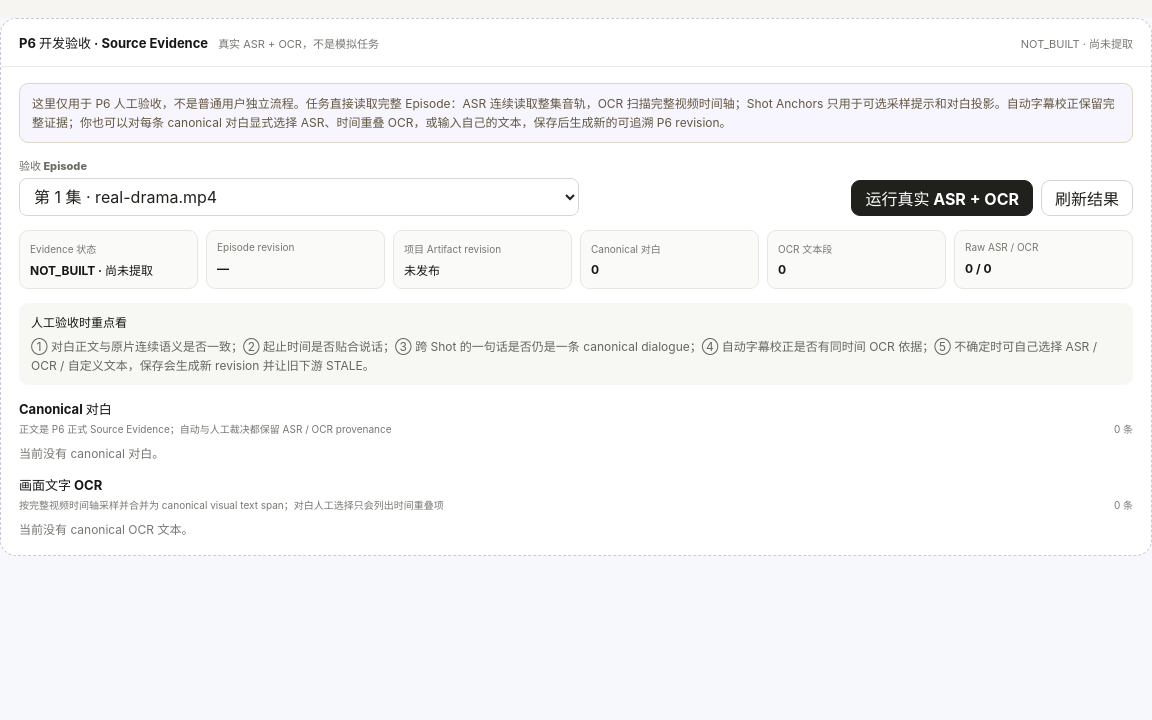
Scenario: P6AcceptancePanel › starts a real source-evidence command for the selected full Episode
This screenshot has width=1152, height=720.
Step 1. Click the button "运行真实 ASR + OCR" → (942, 198), box [851, 180, 1033, 216]
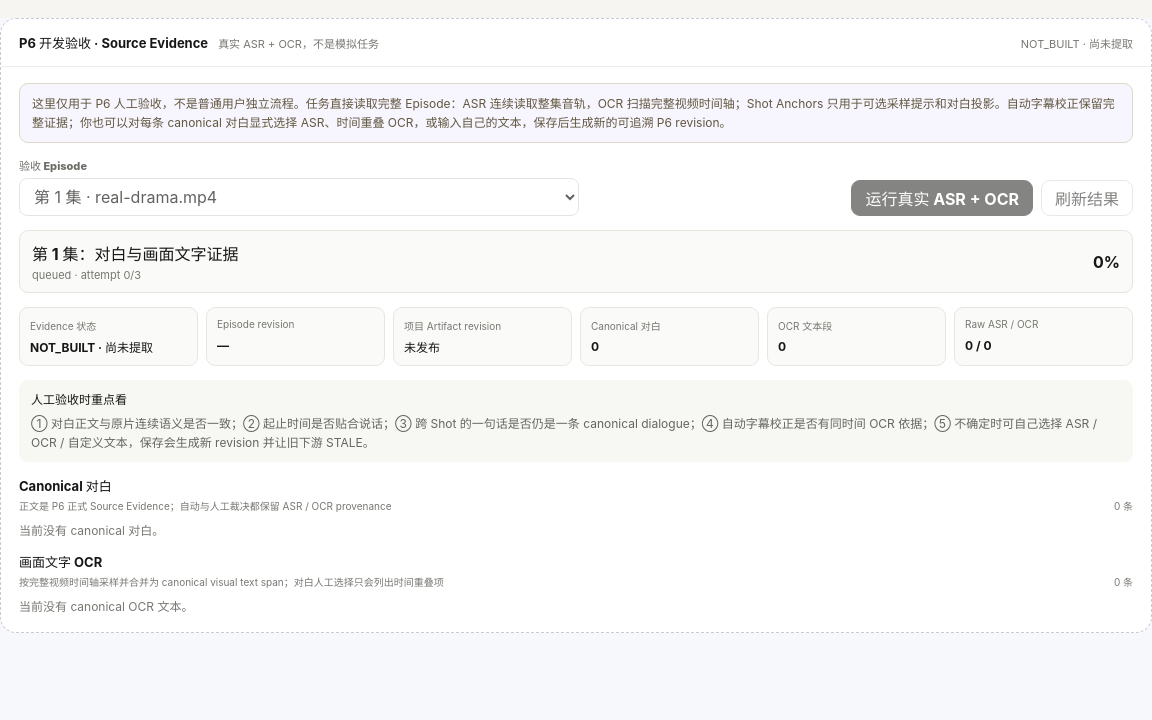
Now the text "第 1 集：对白与画面文字证据" is shown, box [32, 241, 238, 265]
